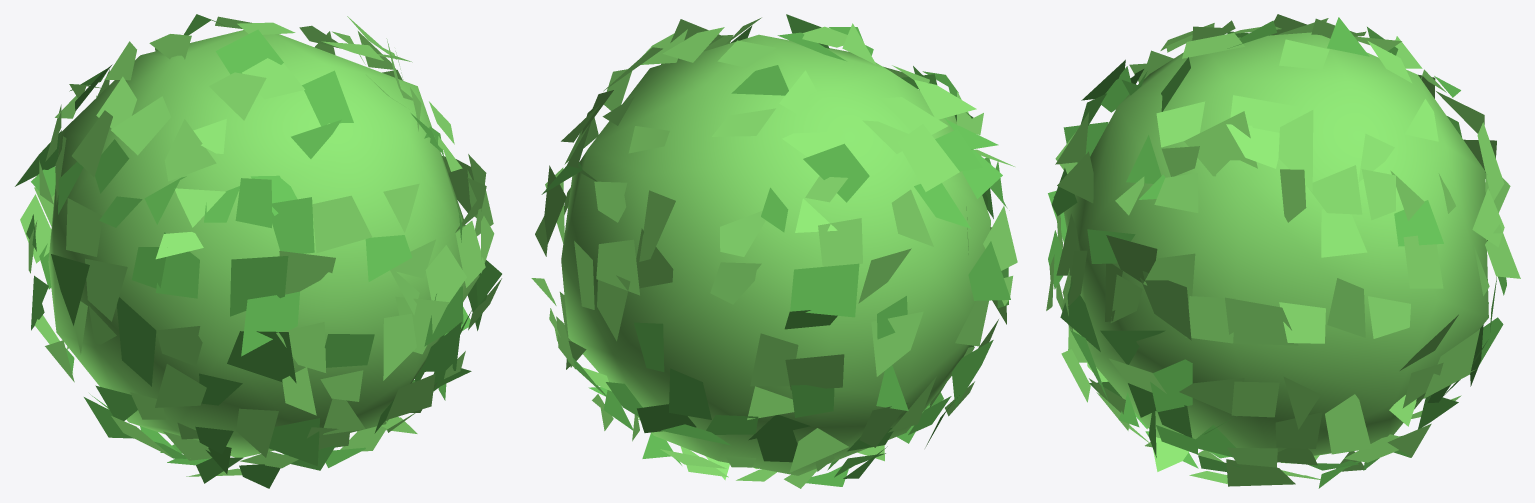
The model's file is bush1.fbx.
The picture shows the model from 3 angles, left to right: view 1: azimuth 30°, elevation 25°; view 2: azimuth 150°, elevation 25°; view 3: azimuth 270°, elevation 25°; orthographic projection.
Visible parts, largest first — view 1: Bush1; view 2: Bush1; view 3: Bush1.
Part boxes in pixels (x1,y1,x2,y2): Bush1: (15,14,501,488); Bush1: (531,14,1017,488); Bush1: (1046,14,1520,488).
Size of the model in its own units: 1.89 by 1.87 by 1.89.
